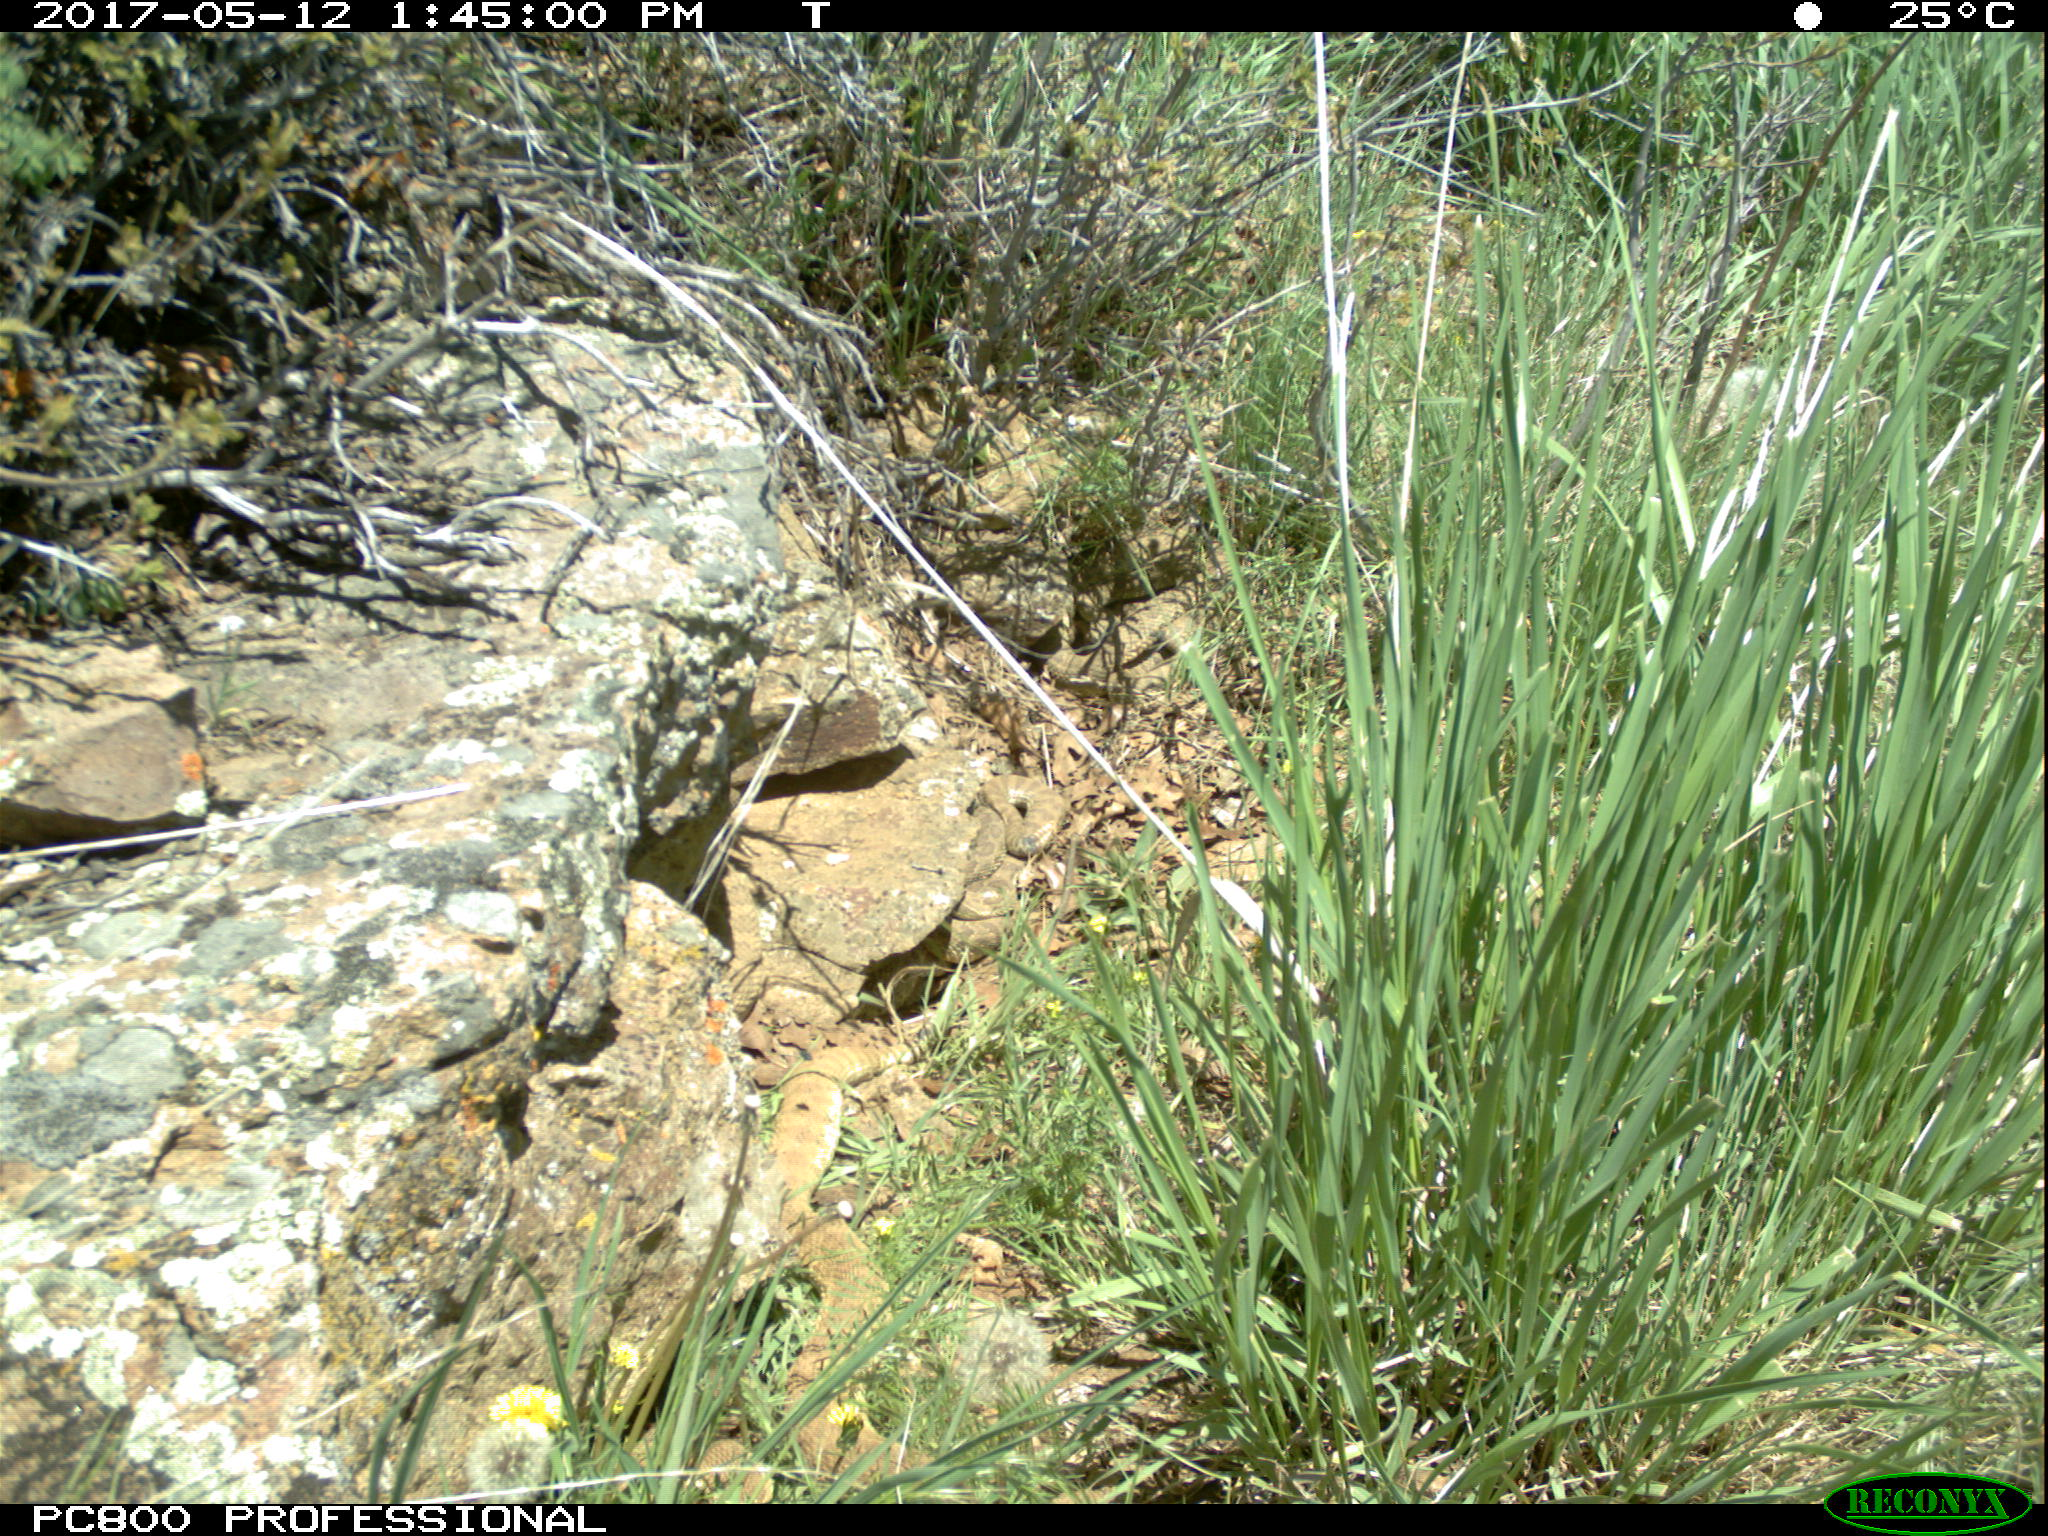snake: (764, 1058, 892, 1483), (943, 381, 1058, 518), (1045, 599, 1206, 682), (921, 883, 1024, 976), (706, 868, 763, 1016), (977, 766, 1068, 857), (685, 1442, 774, 1502)
